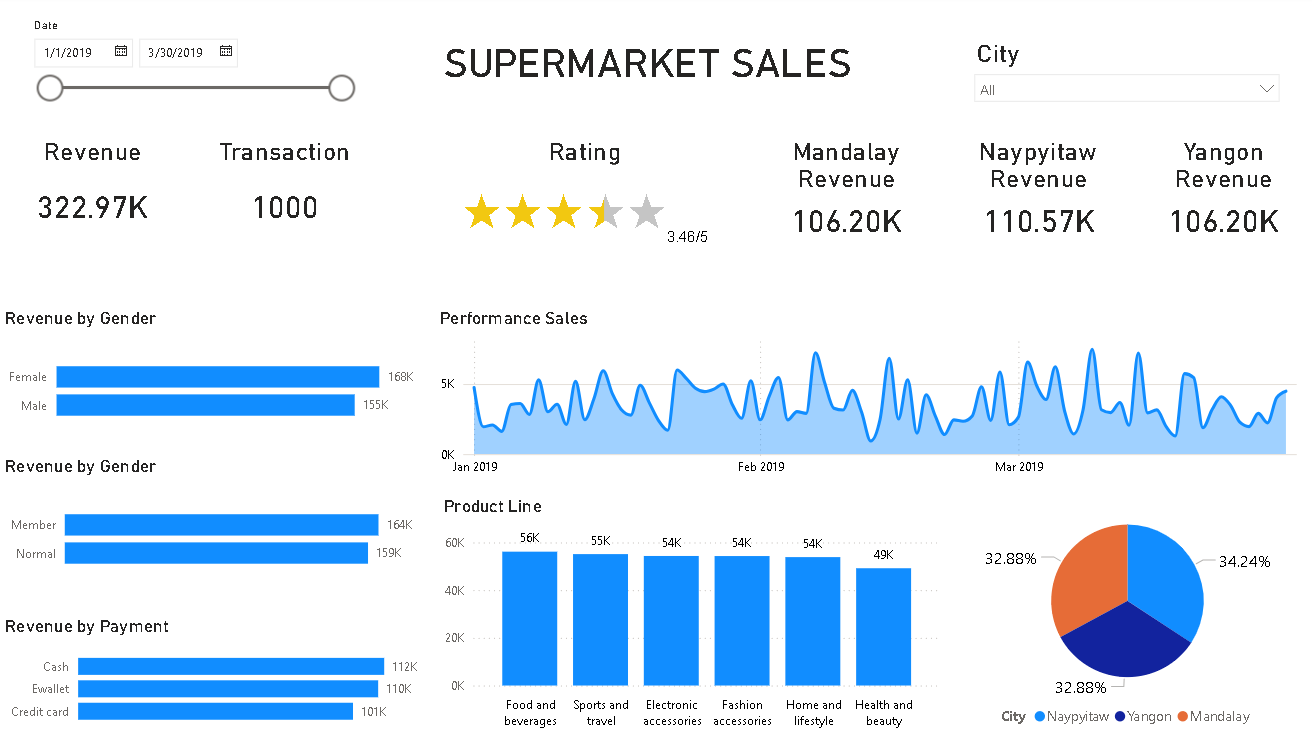

The page's visual inventory and layout, read from the dashboard file:
{"tool":"powerbi","page":{"name":"Page 1","canvas":[1280,720],"ordinal":0},"visuals":[{"type":"card","title":"Revenue","fields":{"Values":["Sum(supermarket_sales - Sheet1.Revenue)"]},"box":[0,136.7,180,105.6],"z":0},{"type":"lineChart","title":"Performance Sales","fields":{"Y":["Sum(supermarket_sales - Sheet1.Revenue)"],"Category":["supermarket_sales - Sheet1.Date"]},"box":[423.3,303.3,856.7,171.1],"z":1000},{"type":"textbox","box":[426.7,37.8,423.3,65.6],"z":2000},{"type":"columnChart","title":"Product Line","fields":{"Category":["supermarket_sales - Sheet1.Product line"],"Y":["Sum(supermarket_sales - Sheet1.Revenue)"]},"box":[426.7,486.7,493.3,233.3],"z":3000},{"type":"slicer","fields":{"Values":["supermarket_sales - Sheet1.Date"]},"box":[20,17.8,333.3,106.7],"z":4000},{"type":"pieChart","fields":{"Category":["supermarket_sales - Sheet1.City"],"Y":["Sum(supermarket_sales - Sheet1.Revenue)"]},"box":[913.3,486.7,366.7,233.3],"z":5000},{"type":"slicer","fields":{"Values":["supermarket_sales - Sheet1.City"]},"box":[937.8,36.7,316.7,66.7],"z":6000},{"type":"barChart","title":"Revenue by Gender","fields":{"Category":["supermarket_sales - Sheet1.Gender"],"Y":["Sum(supermarket_sales - Sheet1.Revenue)"]},"box":[0,303.3,423.3,135.6],"z":7000},{"type":"barChart","title":"Revenue by Gender","fields":{"Category":["supermarket_sales - Sheet1.Customer type"],"Y":["Sum(supermarket_sales - Sheet1.Revenue)"]},"box":[0,447.8,423.3,135.6],"z":8000},{"type":"card","title":"Transaction","fields":{"Values":["CountNonNull(supermarket_sales - Sheet1.Revenue)"]},"box":[186.7,136.7,180,105.6],"z":9000},{"type":"card","title":"Yangon Revenue","fields":{"Values":["Sum(supermarket_sales - Sheet1.Yangon Revenue)"]},"box":[1100,136.7,180,105.6],"z":10000},{"type":"card","title":"Naypyitaw Revenue","fields":{"Values":["Sum(supermarket_sales - Sheet1.Naypyitaw Revenue)"]},"box":[920,136.7,180,105.6],"z":11000},{"type":"card","title":"Mandalay Revenue","fields":{"Values":["Sum(supermarket_sales - Sheet1.Mandalay Revenue)"]},"box":[733.3,136.7,180,105.6],"z":12000},{"type":"ratingsvisual001","title":"Rating","fields":{"measure":["Avg(supermarket_sales - Sheet1.Rating)"]},"box":[366.7,136.7,404.4,147.8],"z":13000},{"type":"barChart","title":"Revenue by Payment","fields":{"Y":["Sum(supermarket_sales - Sheet1.Revenue)"],"Category":["supermarket_sales - Sheet1.Payment"]},"box":[0,603.3,423.3,115.6],"z":14000}]}

Visuals, with their boxes in screenshot pixels (x1, y1, x2, y2), scaled from the page's 1280x720 canvas onto the 1312x734 screenshot:
"Revenue" card: detection(0, 139, 184, 247)
"Performance Sales" lineChart: detection(434, 309, 1311, 484)
textbox: detection(437, 39, 871, 105)
"Product Line" columnChart: detection(437, 496, 943, 733)
slicer - supermarket_sales - Sheet1.Date: detection(20, 18, 362, 127)
pieChart - supermarket_sales - Sheet1.City x Sum(supermarket_sales - Sheet1.Revenue): detection(936, 496, 1311, 733)
slicer - supermarket_sales - Sheet1.City: detection(961, 37, 1286, 105)
"Revenue by Gender" barChart: detection(0, 309, 434, 447)
"Revenue by Gender" barChart: detection(0, 457, 434, 595)
"Transaction" card: detection(191, 139, 376, 247)
"Yangon Revenue" card: detection(1128, 139, 1311, 247)
"Naypyitaw Revenue" card: detection(943, 139, 1128, 247)
"Mandalay Revenue" card: detection(752, 139, 936, 247)
"Rating" ratingsvisual001: detection(376, 139, 790, 290)
"Revenue by Payment" barChart: detection(0, 615, 434, 733)
